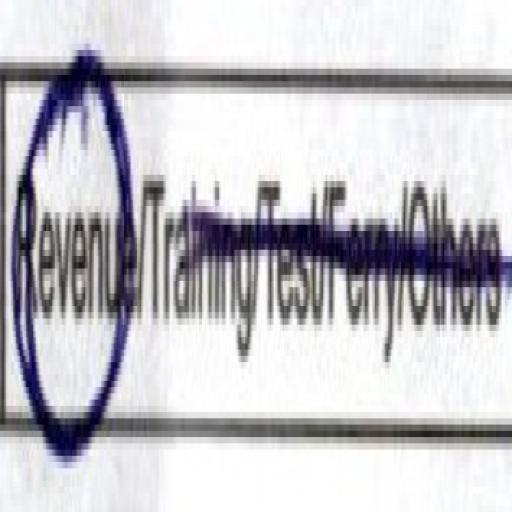check: (6, 36, 138, 476)
